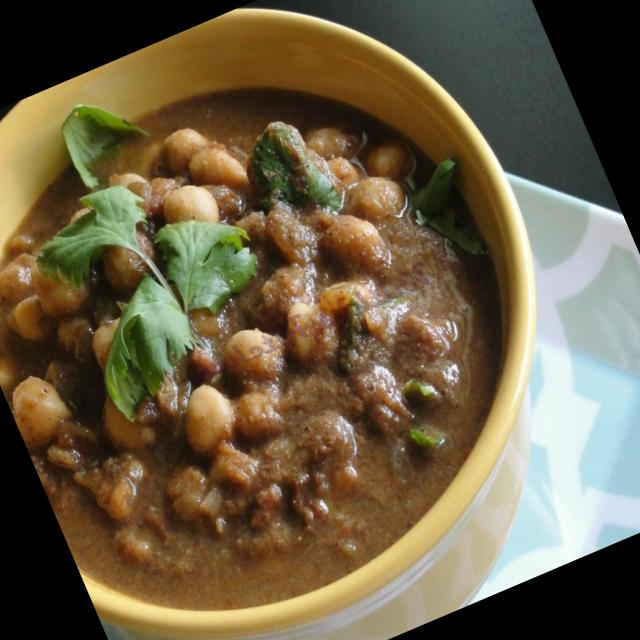Chole: (0, 11, 583, 640)
